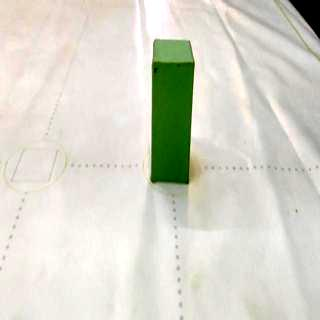greenbox: (150, 36, 197, 186)
